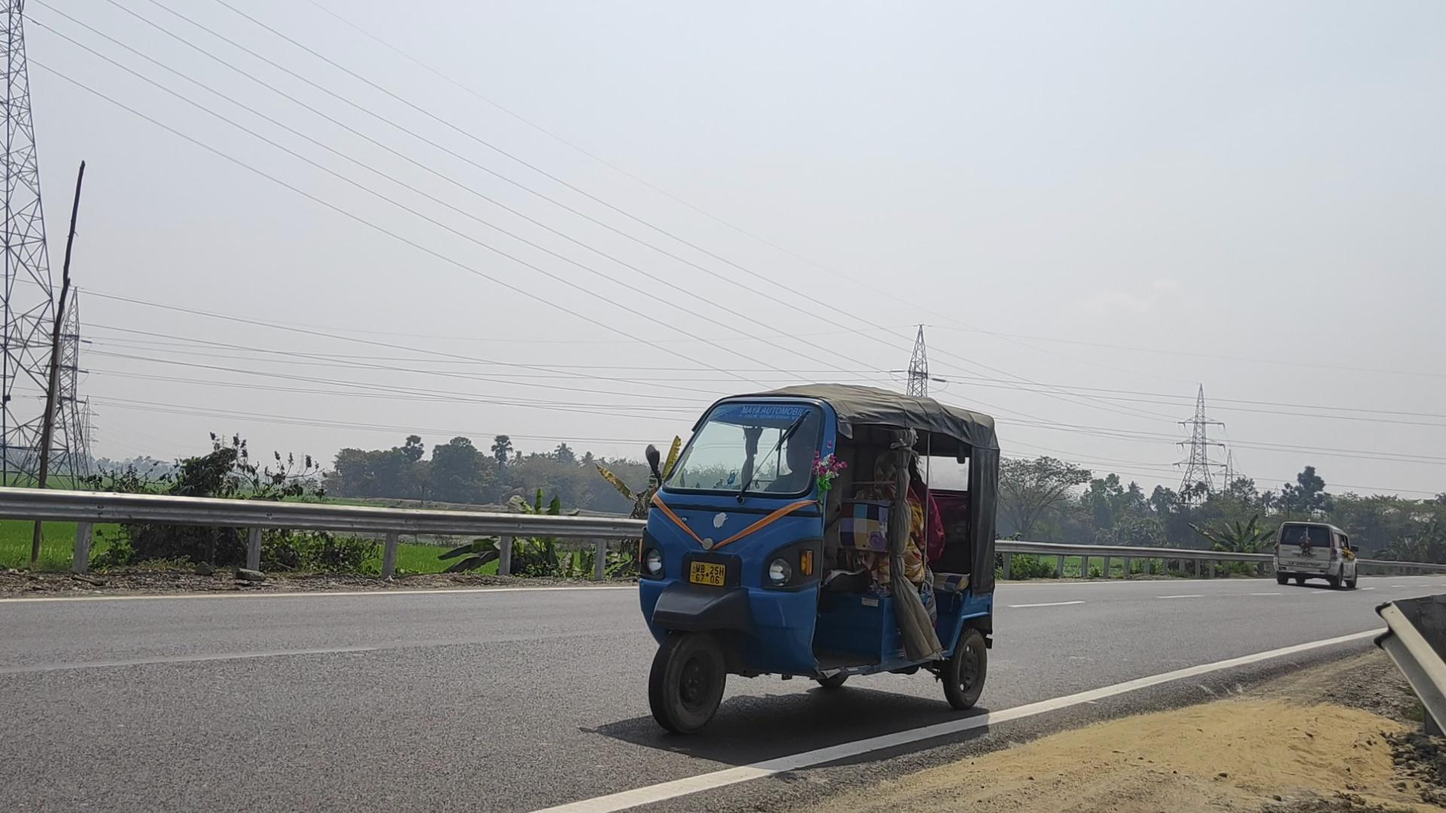Auto: (638, 382, 1001, 736)
car: (1274, 522, 1359, 589)
